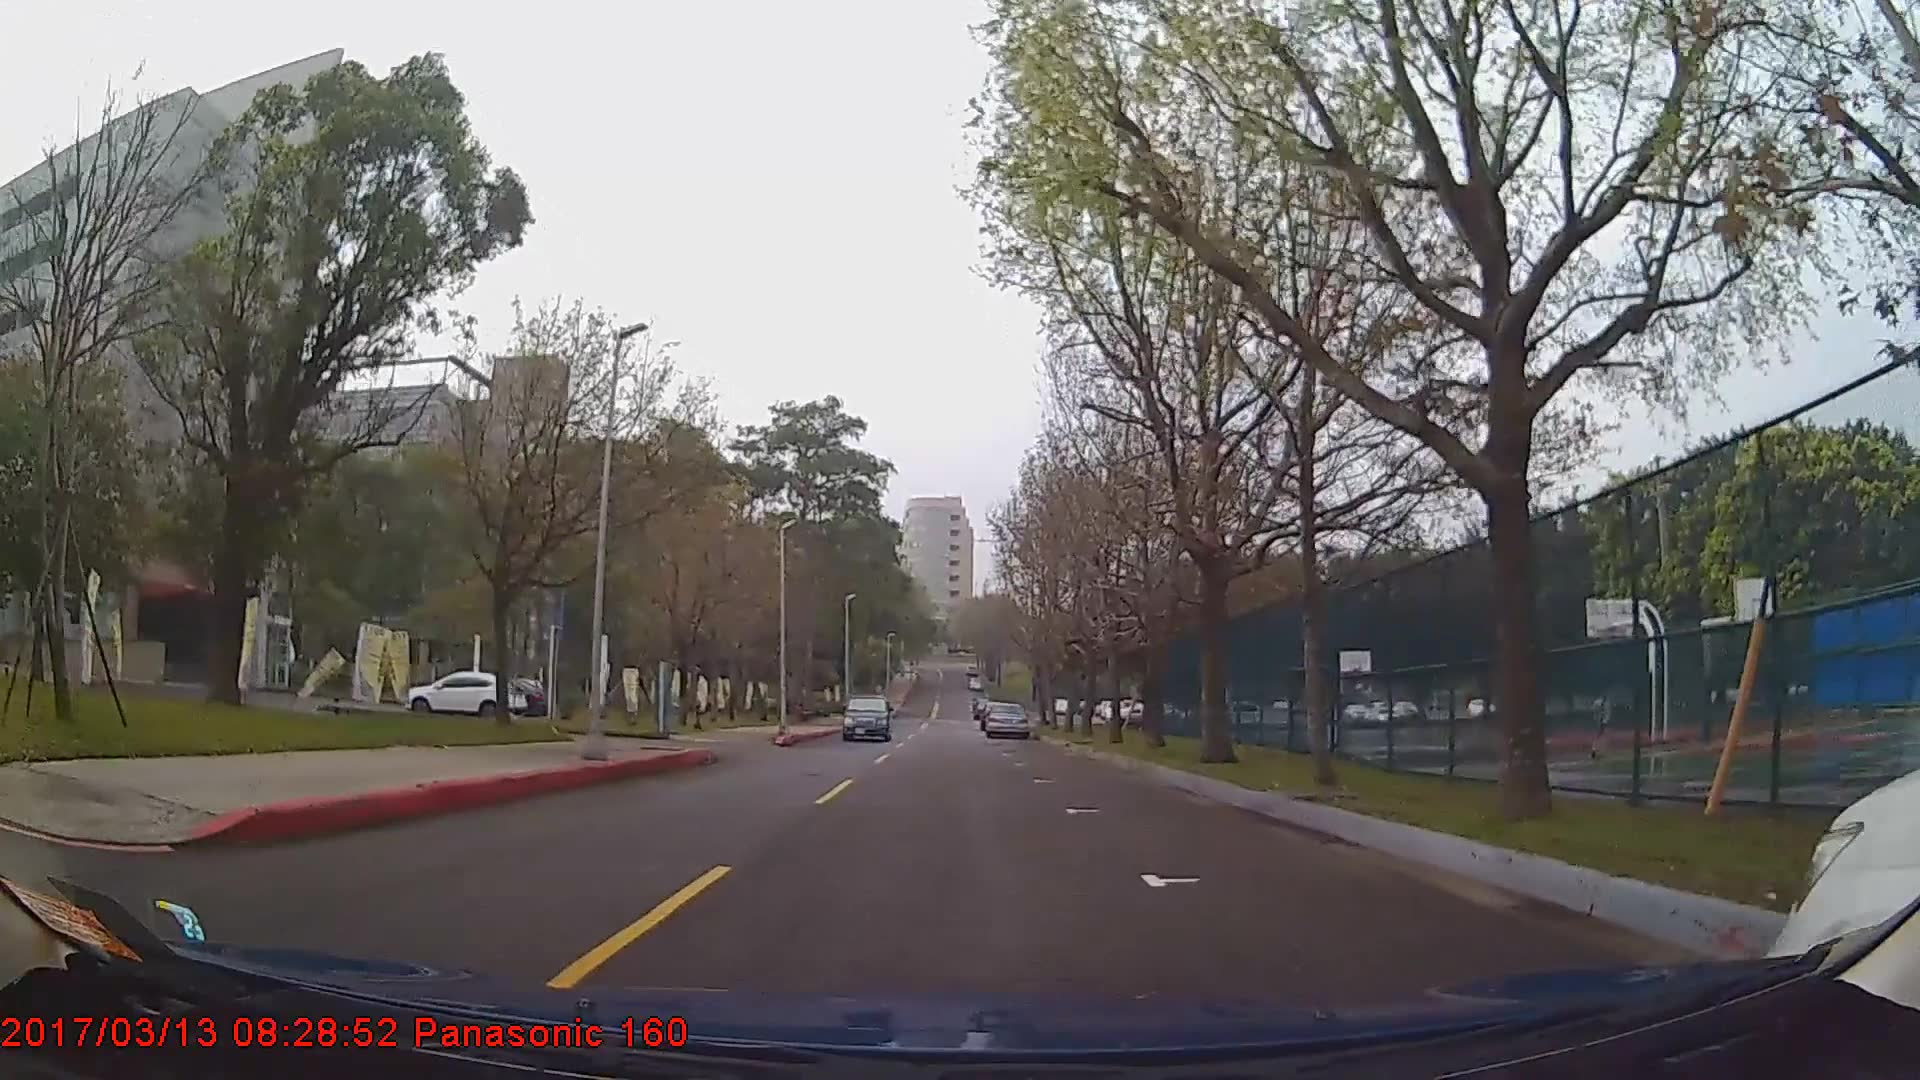vehicle: (402, 666, 526, 716), (841, 691, 891, 741), (982, 700, 1029, 740)
